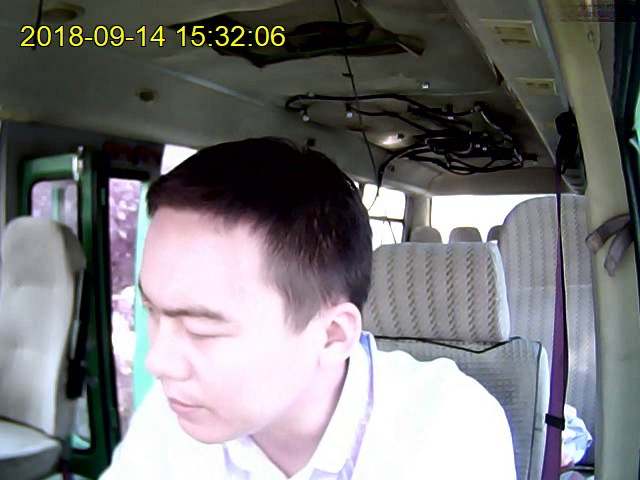closed_eye: (179, 318, 235, 342)
closed_mouth: (164, 394, 202, 413)
